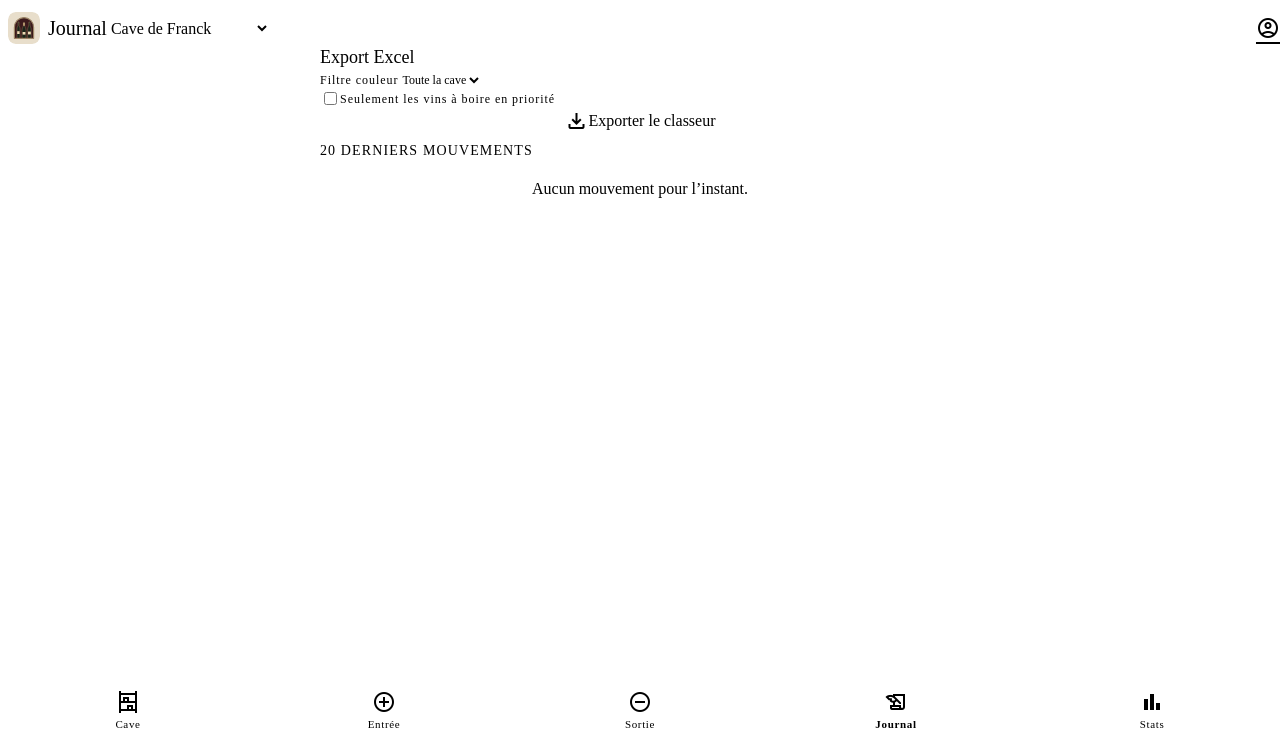
Test case: changement de cave › quitte le journal vers une cave en lecture sans relancer le journal
This screenshot has width=1280, height=732.
Select "Cave de Paul (lecture)" in the dropdown named "Cave" at (188, 28), box [107,12,270,44]
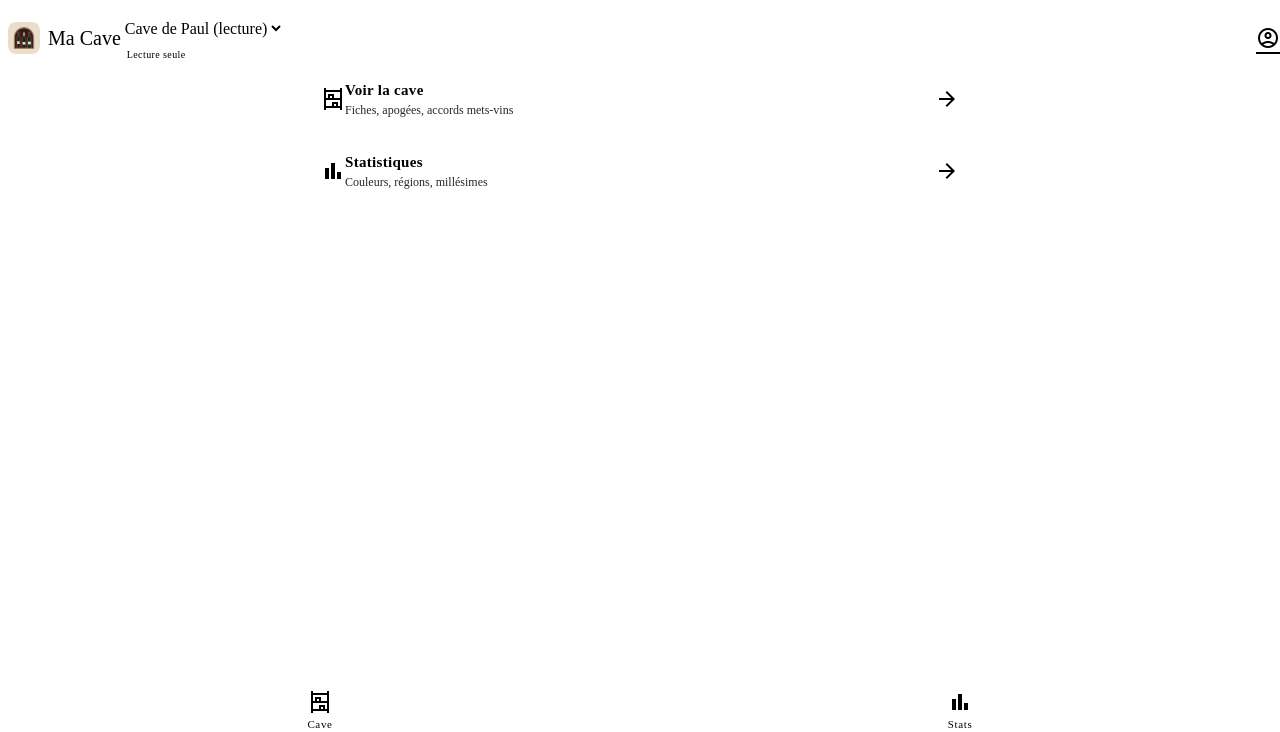
Result: the text "Lecture seule" is shown at [127,49,186,60]
